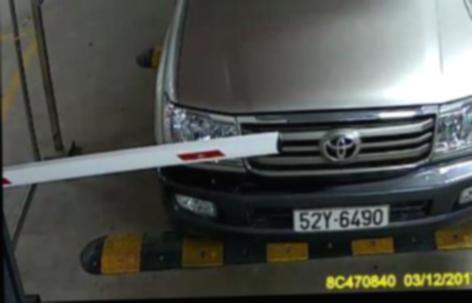License_Plate: (292, 206, 392, 232)
